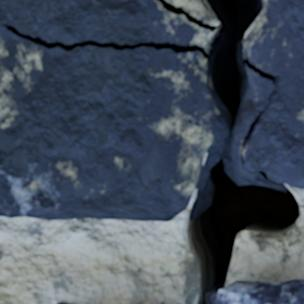broken_brick: (0, 27, 215, 222), (244, 0, 303, 189), (0, 0, 209, 45), (212, 279, 303, 303), (168, 0, 215, 24), (55, 302, 72, 303)
crack: (0, 0, 302, 303)
